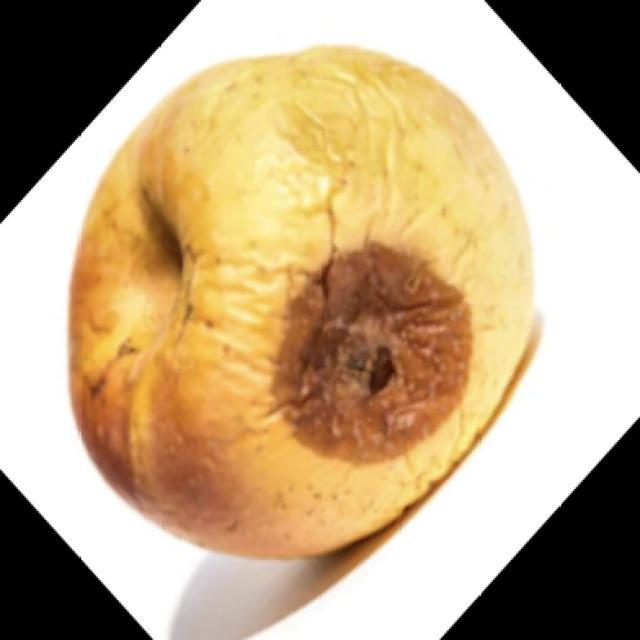Rotten: (62, 52, 540, 550)
